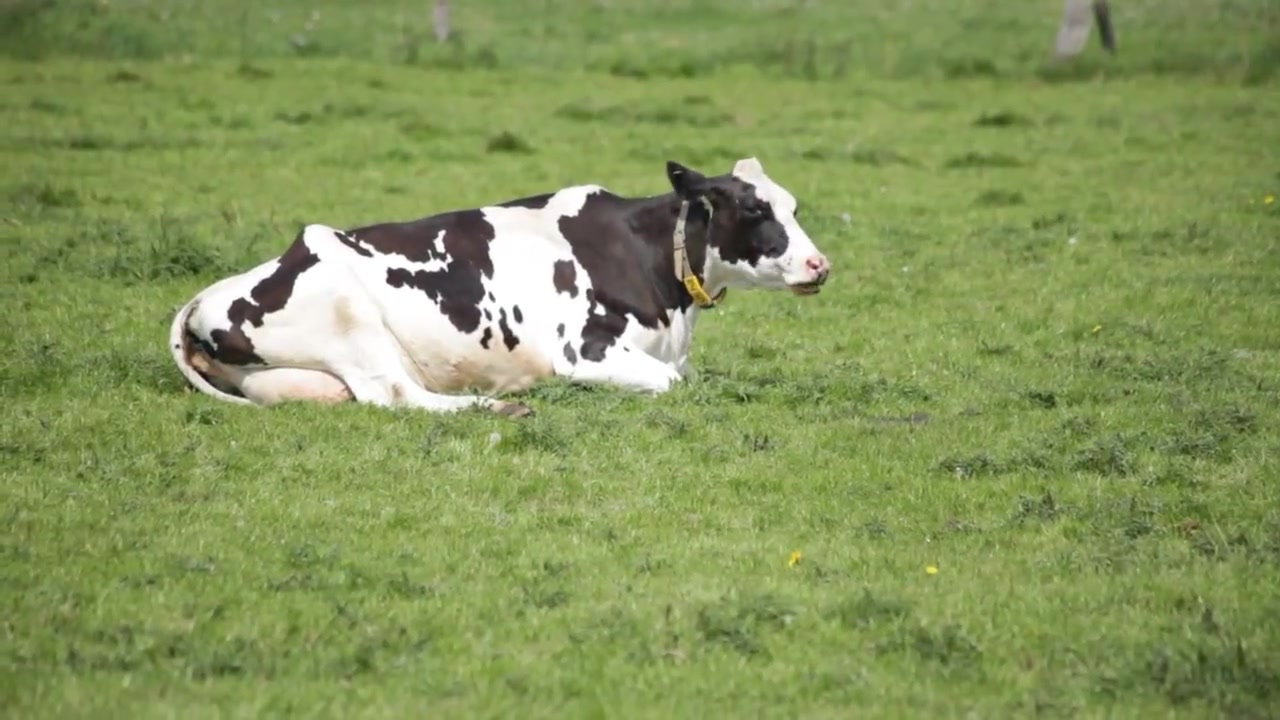cow: (169, 150, 828, 419)
